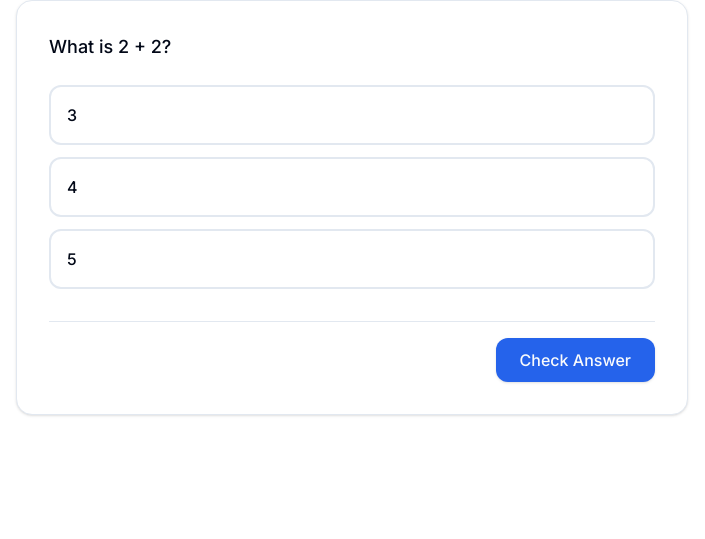
Test: QuestionCard Component › shows success state on correct answer
Click the text "4" at (72, 187), box [67,175,78,199]
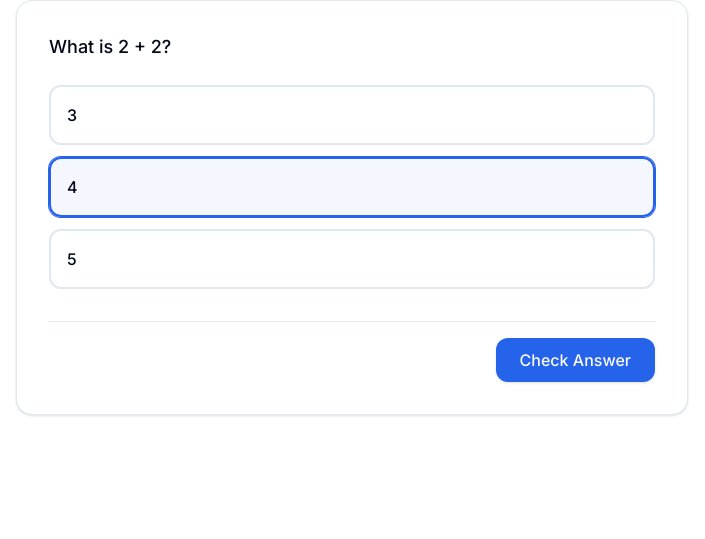
Click the button "Check Answer" at (575, 360), box [496,338,655,382]
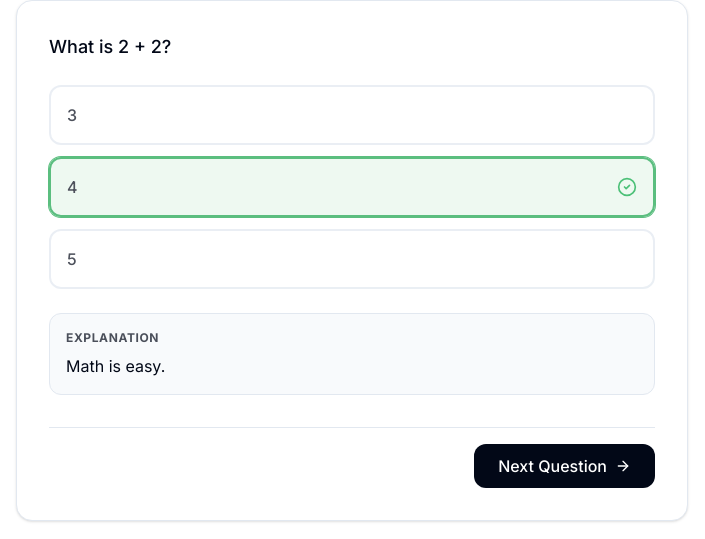
Expected: the heading "Explanation" is shown, [66,330,159,345]
Expected: the button "Next Question" is shown, [474,444,655,488]
